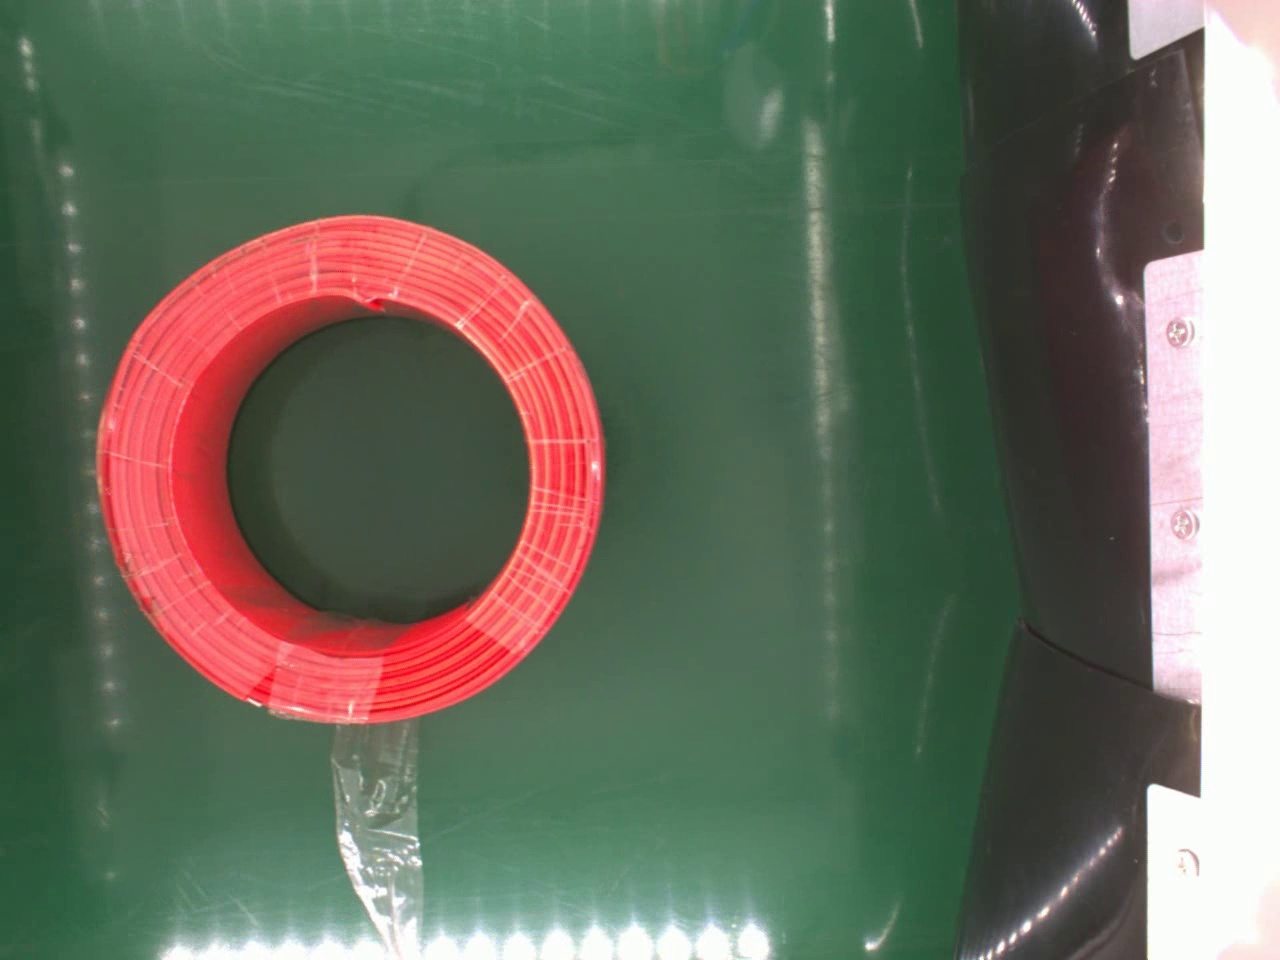red: (93, 214, 608, 725)
